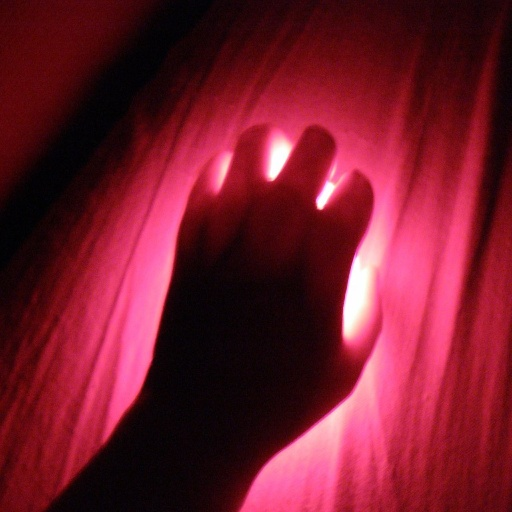hand: (30, 85, 412, 512)
